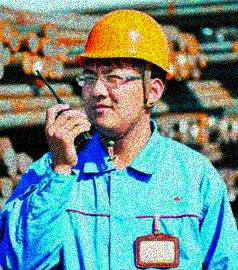helmet: (75, 6, 171, 137)
